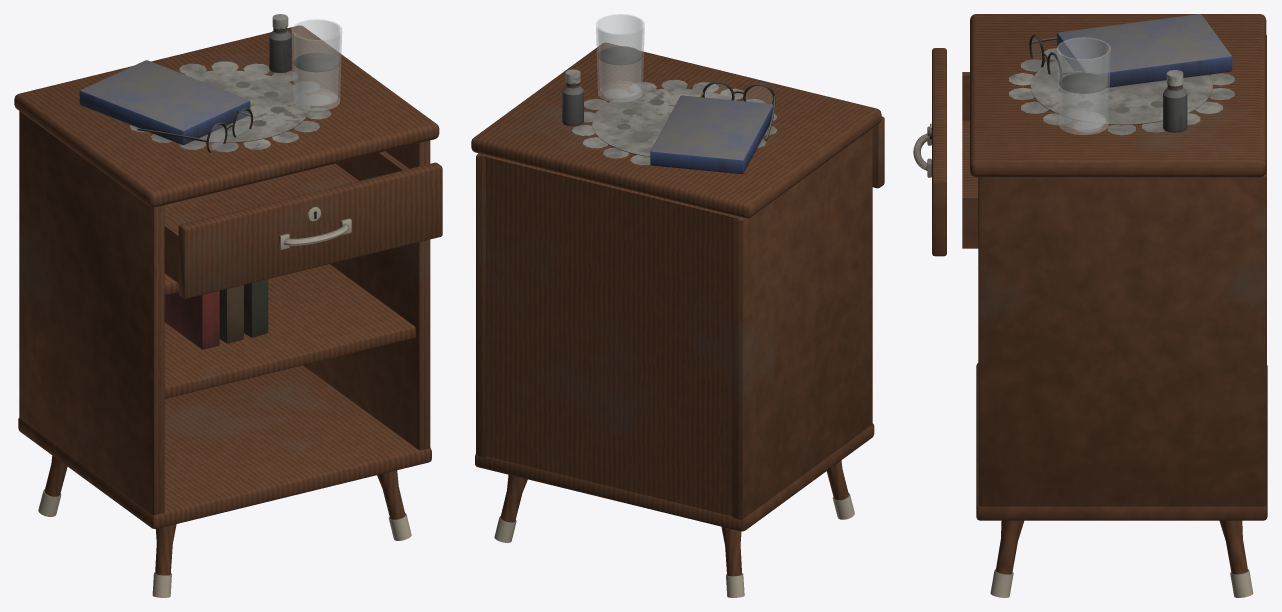
Rendered from SM_Nightstand.fbx.
3 views of the same model, side by side, from view 1: azimuth 30°, elevation 25°; view 2: azimuth 150°, elevation 25°; view 3: azimuth 270°, elevation 25° (orthographic). The views are drawn at different scales.
Visible parts, largest first — view 1: SM_Nightstand; view 2: SM_Nightstand; view 3: SM_Nightstand.
Part boxes in pixels (x1,y1,x2,y2): SM_Nightstand: [14, 14, 442, 597]; SM_Nightstand: [471, 14, 884, 597]; SM_Nightstand: [913, 14, 1267, 597].
Size of the model in its own units: 0.47 by 0.7609 by 0.4663.
Materials: 2 (1 with a texture image).
